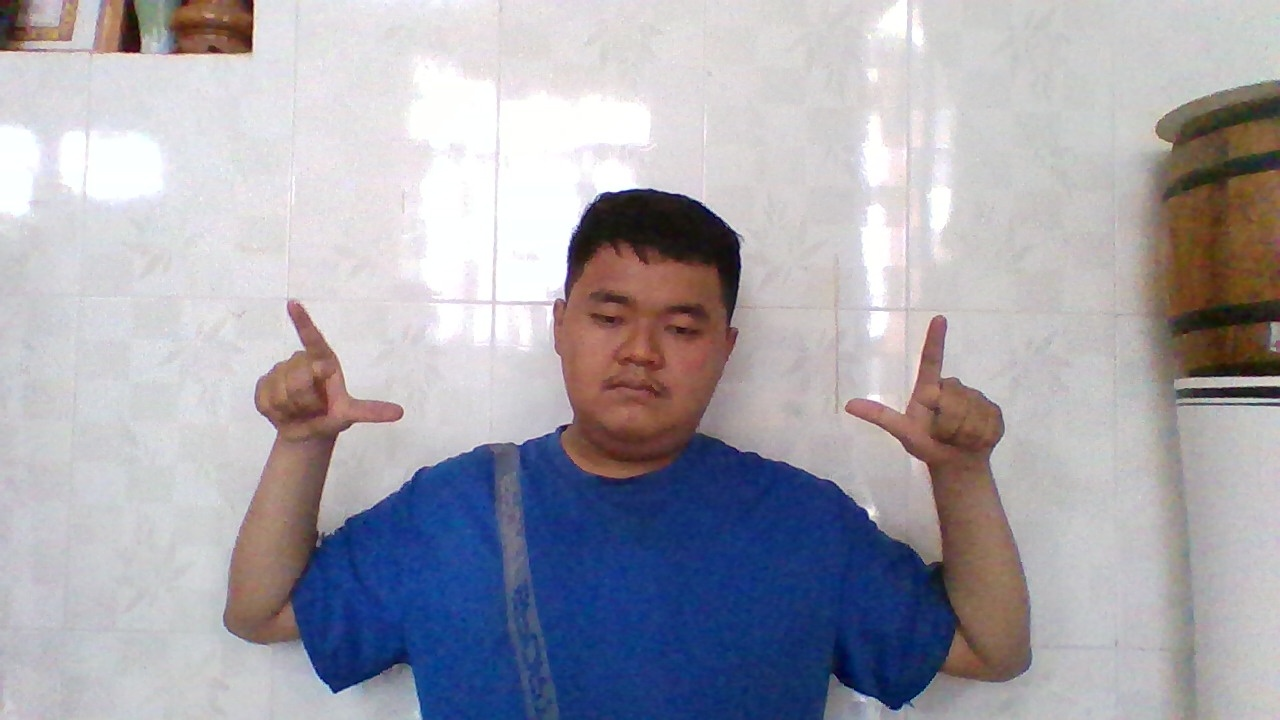L: (839, 306, 1009, 480), (242, 289, 411, 454)
